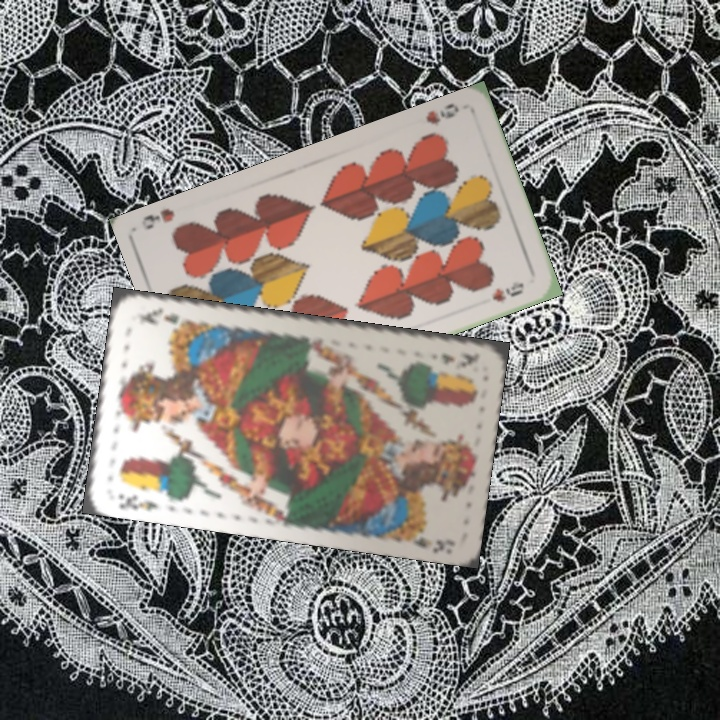EK: (114, 490, 161, 513), (436, 349, 482, 370)
H9: (421, 99, 462, 129)
